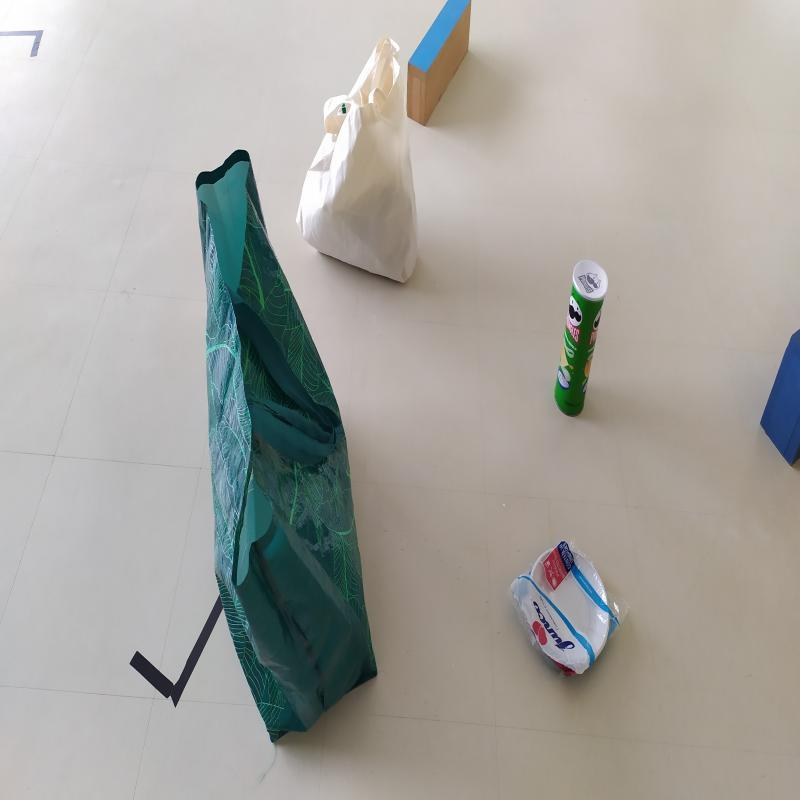Bag: (208, 156, 382, 750), (295, 35, 420, 292)
Plate: (525, 543, 612, 674)
Pringles: (551, 256, 608, 420)
